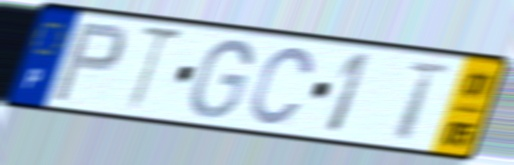1: (321, 49, 373, 137)
C: (247, 44, 318, 128)
G: (188, 37, 256, 121)
P: (49, 20, 130, 105)
T: (122, 22, 190, 116), (392, 58, 453, 144)
